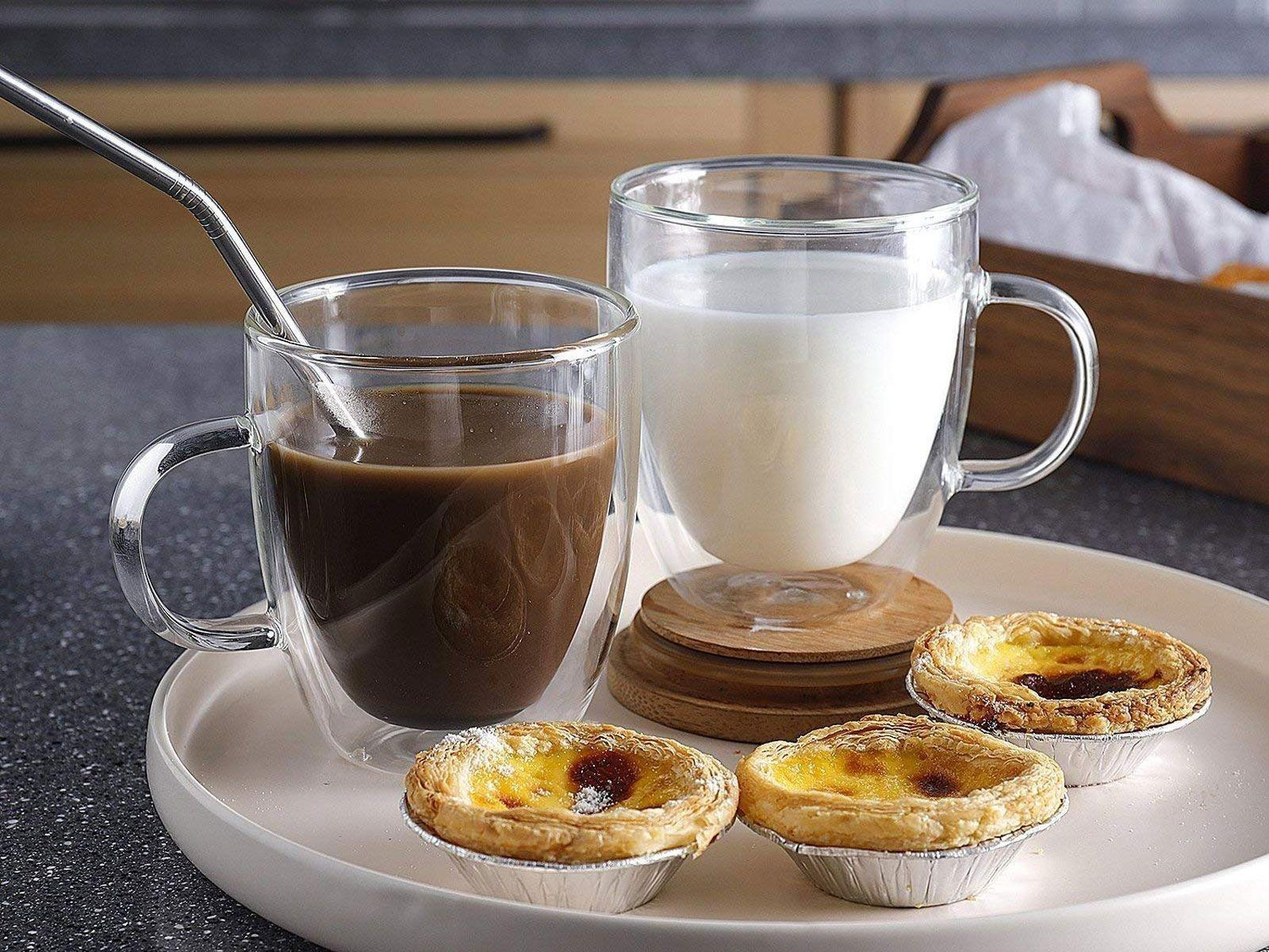glass-mug: (100, 255, 646, 783), (600, 147, 1106, 628)
